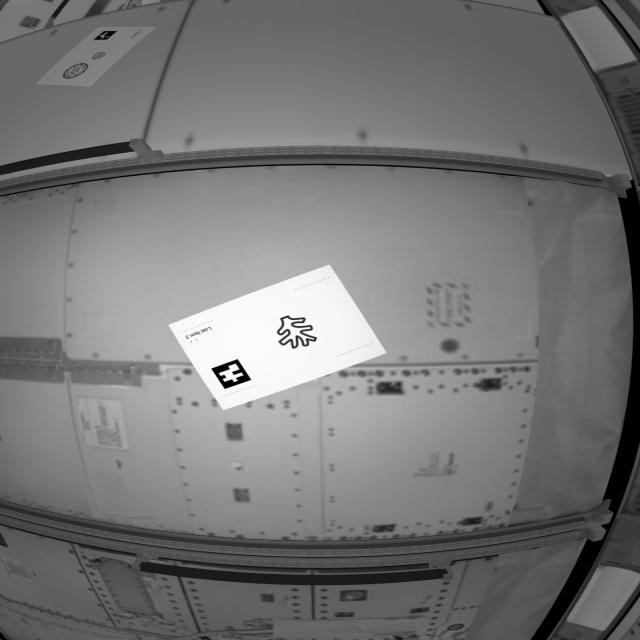coral: (267, 312, 325, 354)
